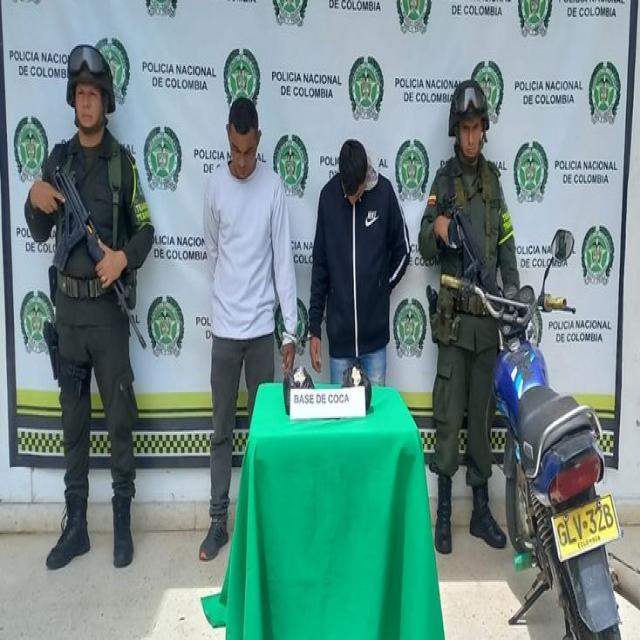9_cabeza_baja: (340, 139, 370, 206)
